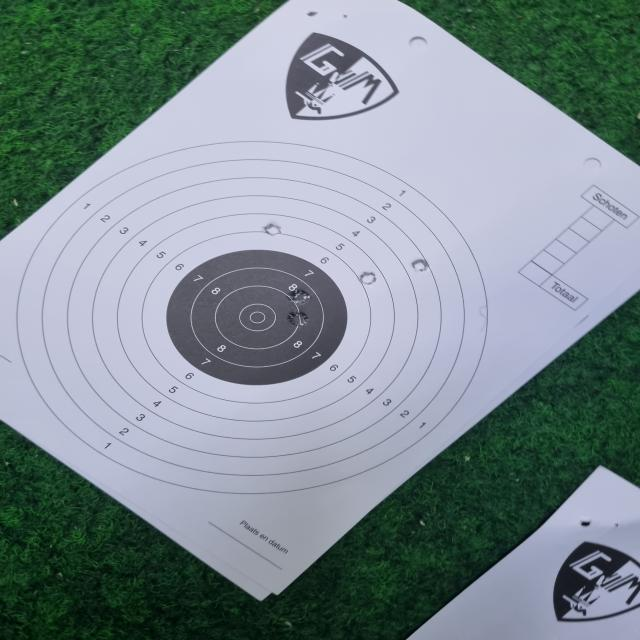10: (287, 312, 309, 326), (289, 290, 311, 304)
4: (412, 259, 428, 272)
6: (359, 272, 376, 286)
7: (264, 223, 282, 236)
Black Contour: (166, 250, 348, 386)
Target: (16, 140, 488, 496)
